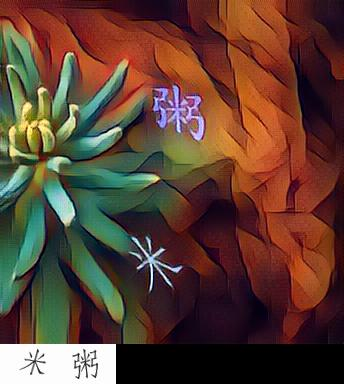character: (145, 80, 219, 150), (123, 230, 183, 297)
